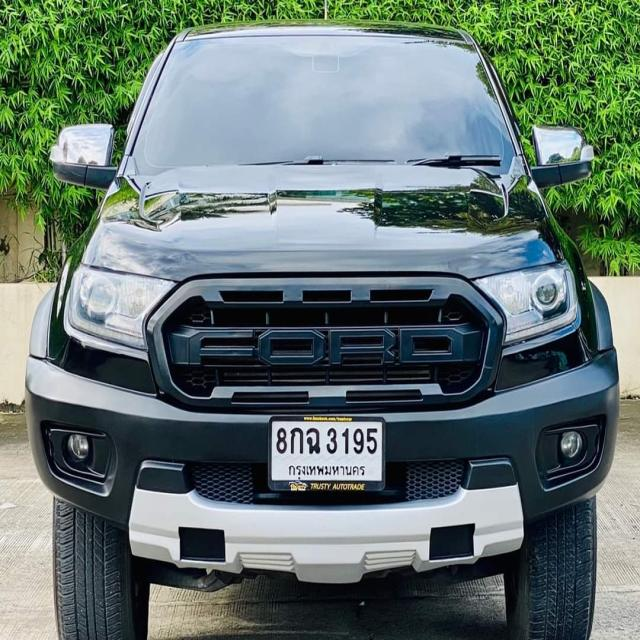license_plate: (268, 415, 387, 493)
